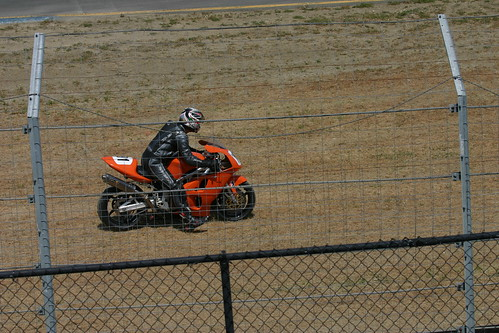helmet: (177, 104, 205, 125)
